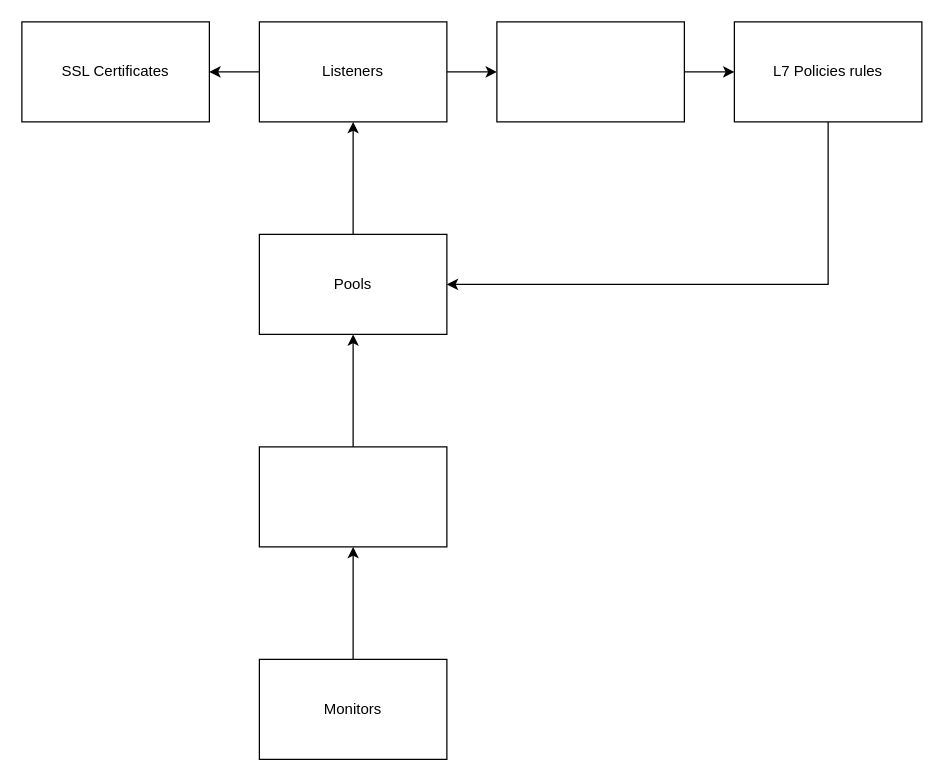
The diagram is 944 pixels wide and 781 high, and some of its shapes have lost their labels. The shapes that lost their labels are listed below. From the top down, each one's centre as x and y in pixels, then its label:
[590,71]: L7 Policies
[352,496]: Backend members
